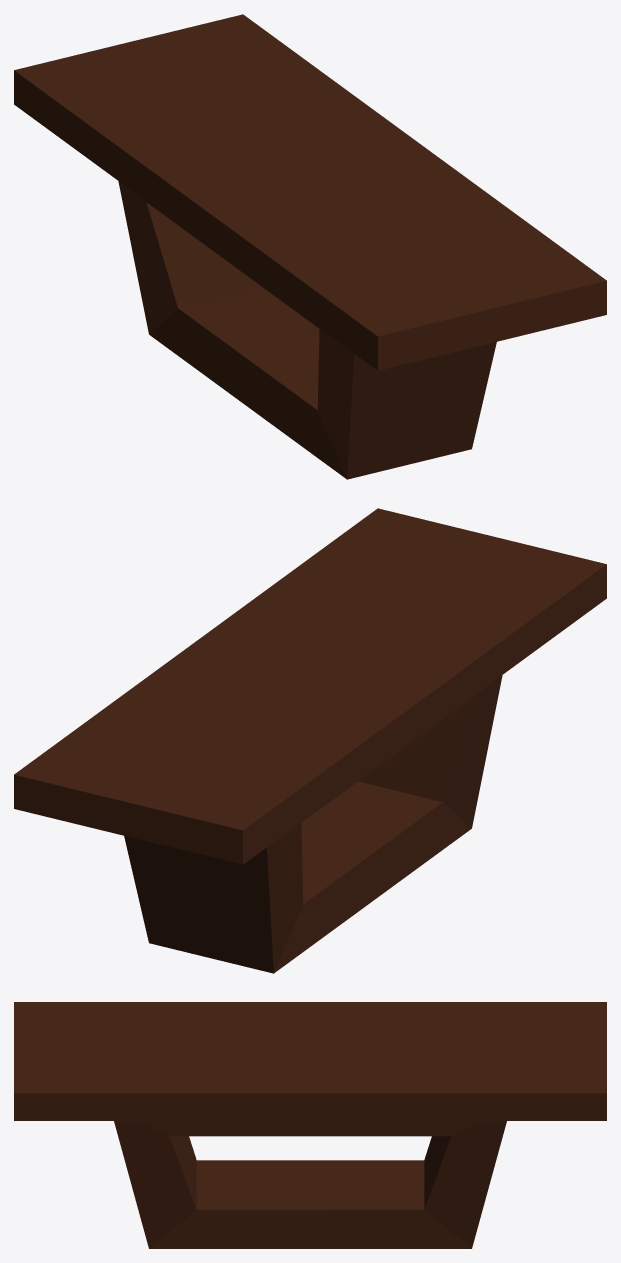
Rendered from coffeeTable.fbx.
3 views of the same model, one above another, from view 1: azimuth 30°, elevation 25°; view 2: azimuth 150°, elevation 25°; view 3: azimuth 270°, elevation 25° (orthographic). The views are drawn at different scales.
Parts seen in each view (by area): view 1: Coffee Table; view 2: Coffee Table; view 3: Coffee Table.
Boxes of the visible parts, box(x1,y1,x2,y2) form: Coffee Table: box(14, 14, 606, 479); Coffee Table: box(14, 508, 606, 973); Coffee Table: box(14, 1002, 606, 1248).
Size of the model in its own units: 42.15 by 116 by 38.05.
